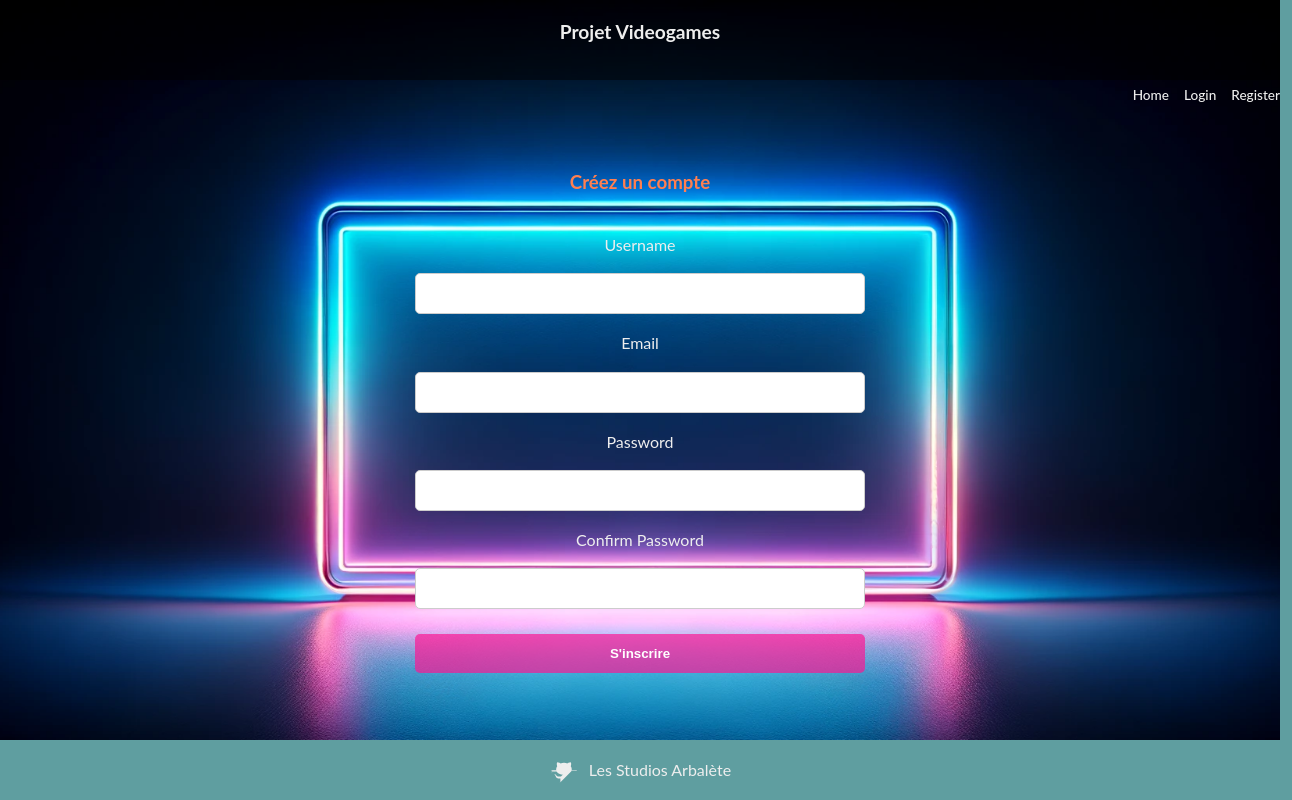
Test: Page d'inscription (Register) › devrait afficher une erreur si les mots de passe ne correspondent pas
Type "Testeur" into the field named "username". click: (640, 294)
box: [415,273,865,314]
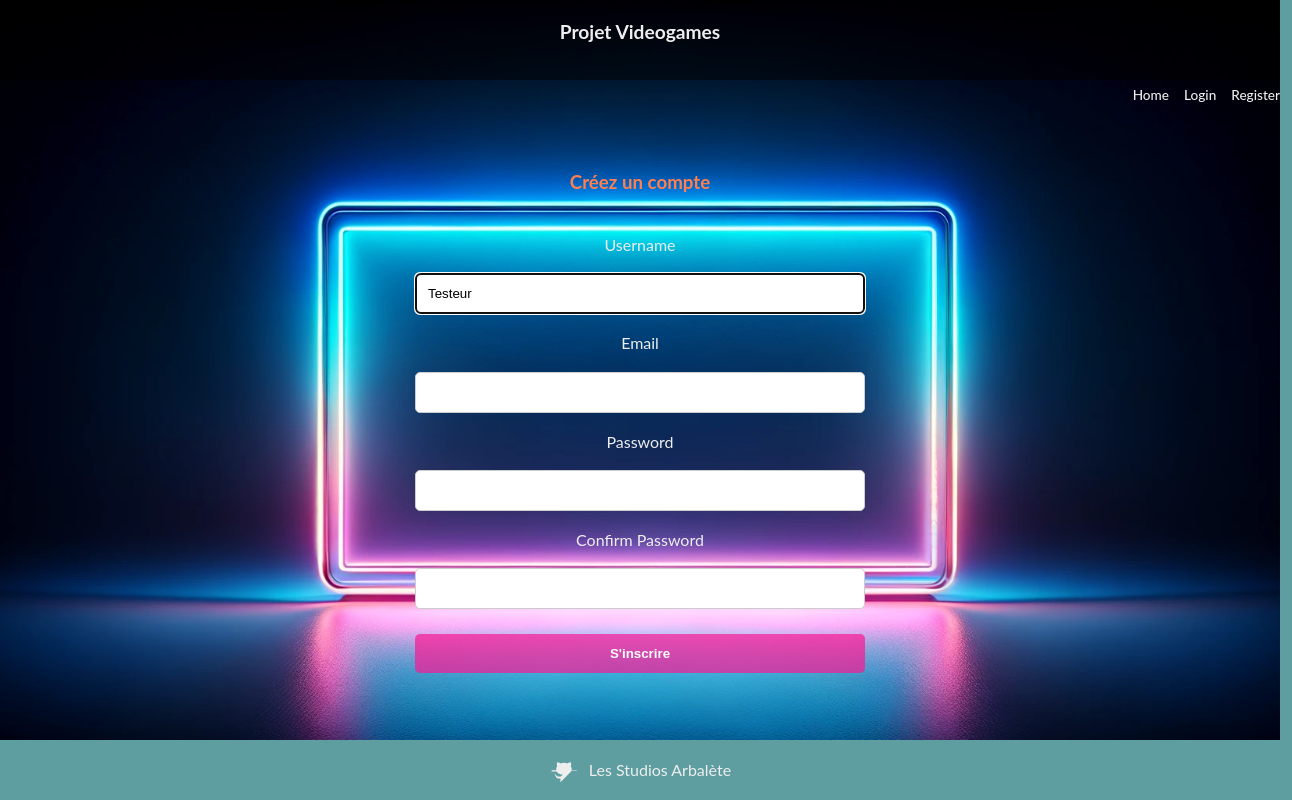
Type "test@test.com" into the field named "email". click: (640, 393)
box: [415,372,865,413]
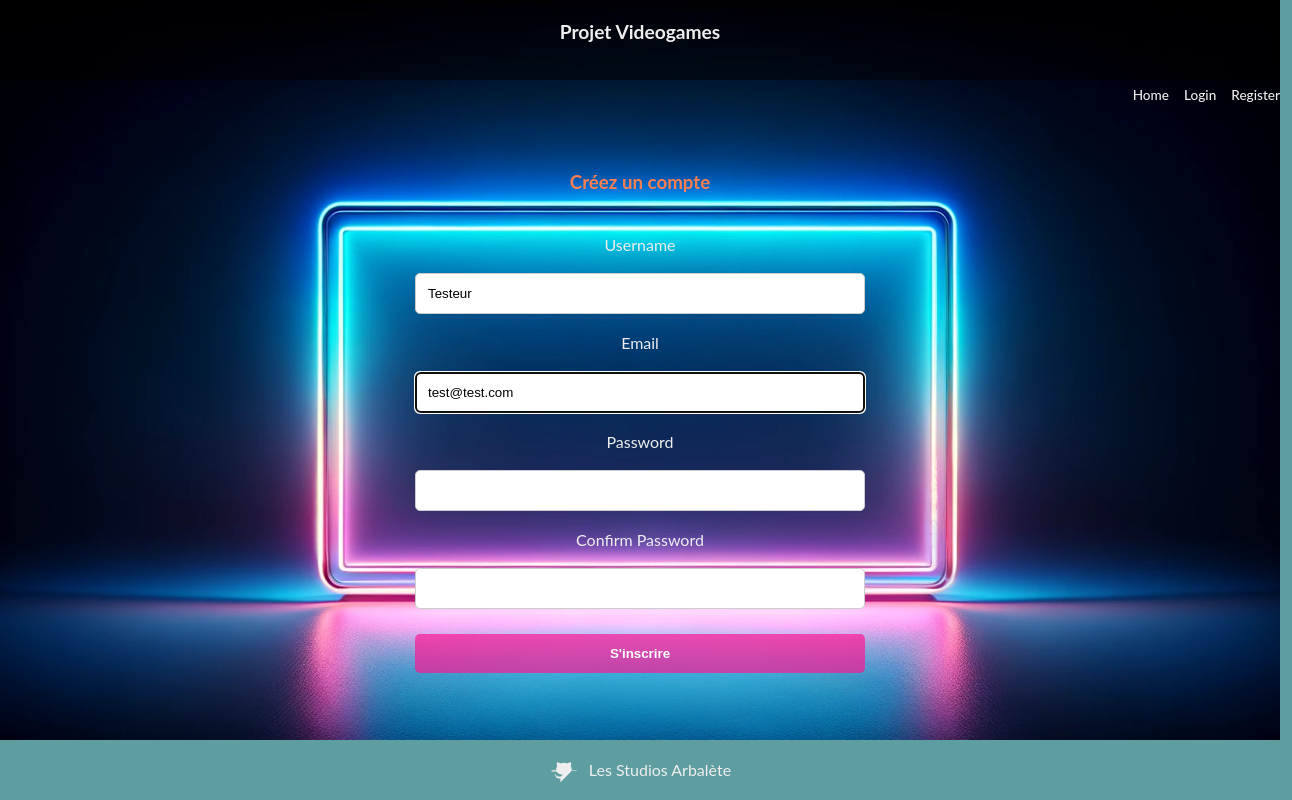
Type "Password123" into the password field named "password". click: (640, 491)
box: [415,470,865,511]
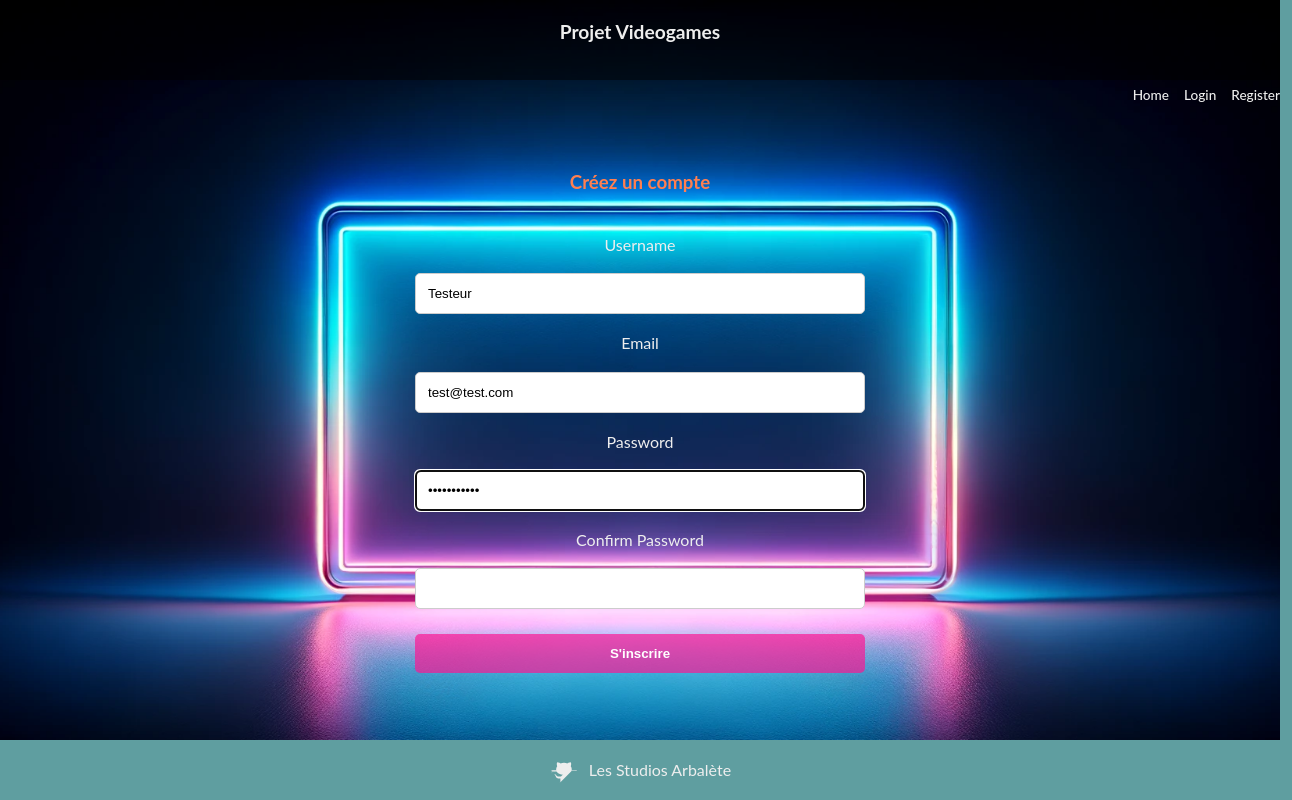
Type "Password456" into the password field named "confirmPassword". click: (640, 589)
box: [415,568,865,609]
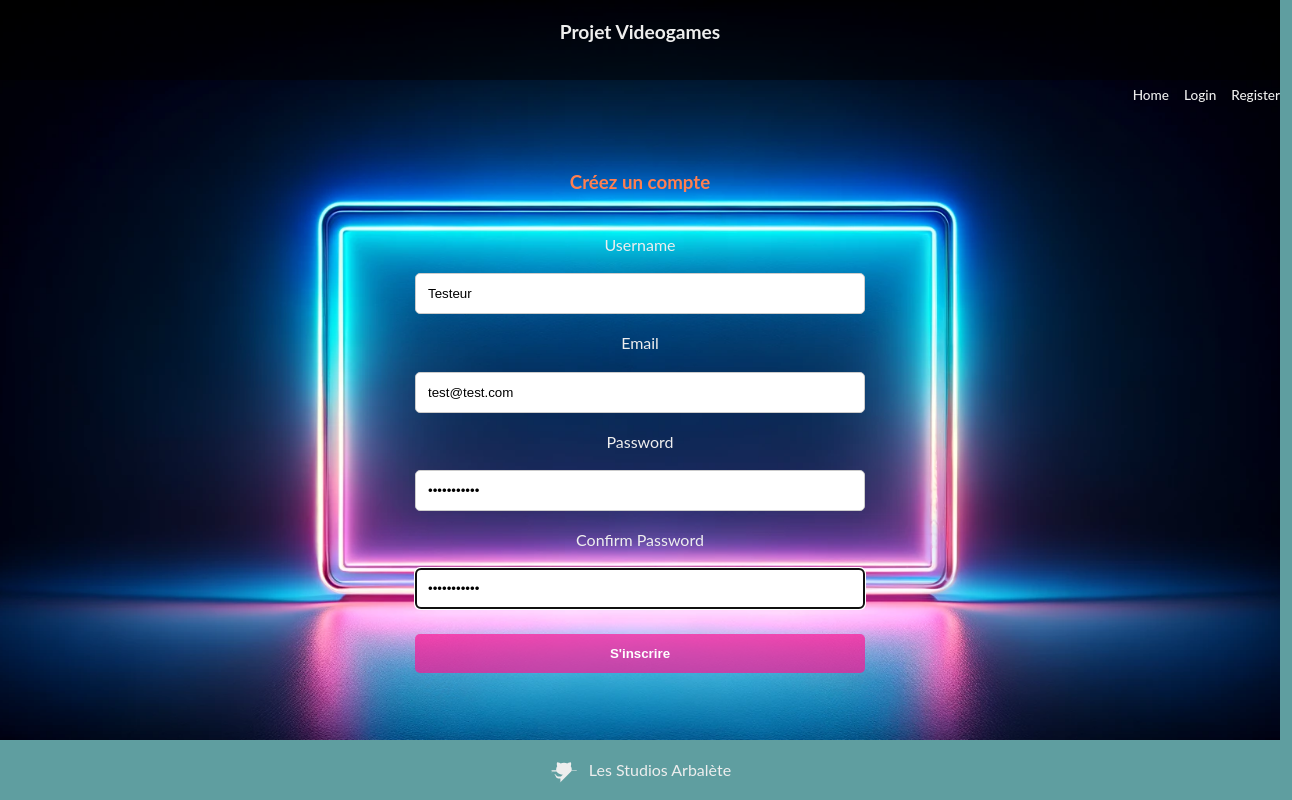
Click the submit button. click: (640, 654)
box: [415,634,865,673]
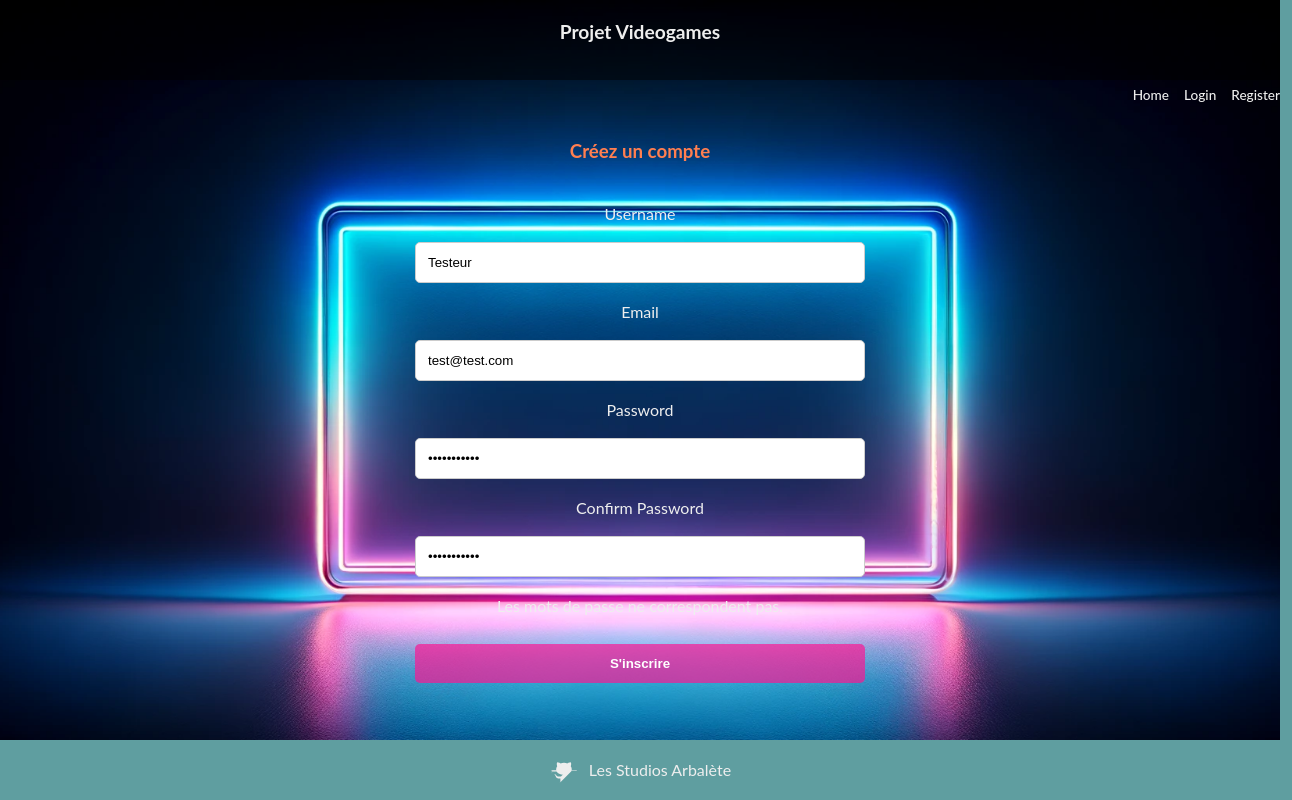
Check: the text "Les mots de passe ne correspondent pas." is shown, box [497,592,783,620]
Check: the text with class "error-message" reads "Les mots de passe ne correspondent pas.", box [497,596,783,615]
